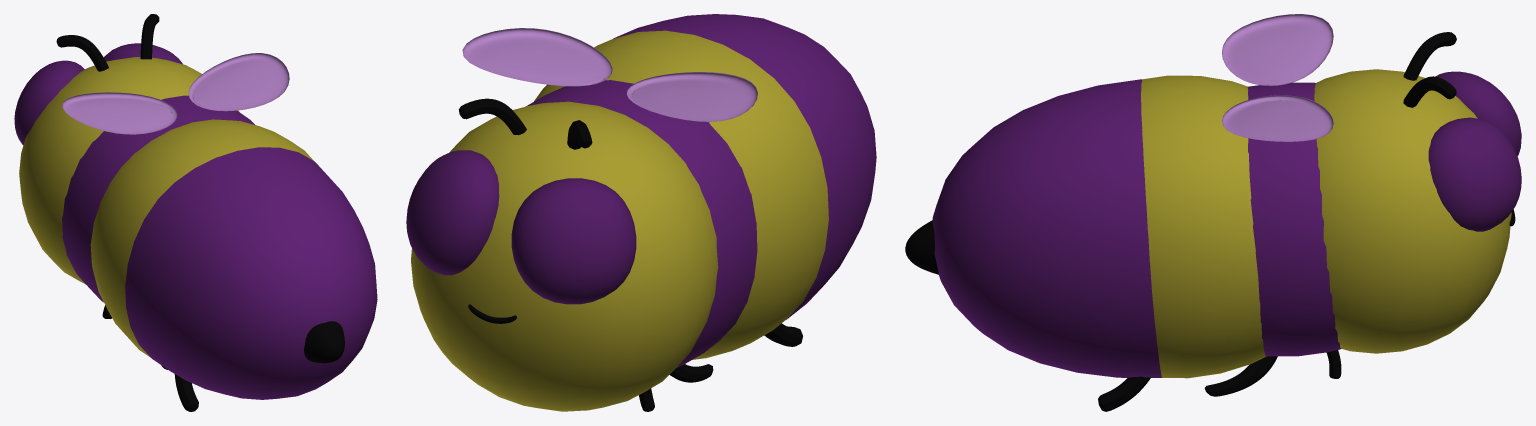
File: bee.glb
3 views of the same model, side by side, from view 1: azimuth 30°, elevation 25°; view 2: azimuth 150°, elevation 25°; view 3: azimuth 270°, elevation 25° (orthographic). The views are drawn at different scales.
Visible parts, largest first — view 1: Cube_004.001, Cube_003.001, Cube_002.001, Cube_008, Cube_001.001, Cube, Cube_009, B__zierCurve.001, B__zierCurve_003; view 2: Cube_002.001, Cube_003.001, Cube, Cube_004.001, Cube_001.001, Cube_008, B__zierCurve.001, B__zierCurve_002, B__zierCurve_003; view 3: Cube_004.001, Cube_002.001, Cube_003.001, Cube_001.001, Cube, Cube_008, B__zierCurve.001, Cube_009, B__zierCurve_002, B__zierCurve_003.
Boxes of the visible parts, x1=… form: Cube_004.001: x1=125, y1=147, x2=377, y2=399; Cube_003.001: x1=90, y1=119, x2=313, y2=357; Cube_002.001: x1=19, y1=57, x2=239, y2=284; Cube_008: x1=62, y1=53, x2=289, y2=134; Cube_001.001: x1=62, y1=95, x2=254, y2=302; Cube: x1=14, y1=43, x2=182, y2=145; Cube_009: x1=304, y1=321, x2=344, y2=363; B__zierCurve.001: x1=56, y1=14, x2=159, y2=71; B__zierCurve_003: x1=174, y1=374, x2=198, y2=411; Cube_002.001: x1=411, y1=101, x2=718, y2=411; Cube_003.001: x1=534, y1=30, x2=828, y2=359; Cube: x1=406, y1=150, x2=636, y2=304; Cube_004.001: x1=613, y1=14, x2=876, y2=319; Cube_001.001: x1=526, y1=80, x2=757, y2=367; Cube_008: x1=462, y1=28, x2=757, y2=121; B__zierCurve.001: x1=458, y1=98, x2=592, y2=149; B__zierCurve_002: x1=669, y1=364, x2=713, y2=382; B__zierCurve_003: x1=764, y1=323, x2=802, y2=346; Cube_004.001: x1=932, y1=79, x2=1161, y2=377; Cube_002.001: x1=1314, y1=69, x2=1511, y2=353; Cube_003.001: x1=1141, y1=75, x2=1266, y2=378; Cube_001.001: x1=1247, y1=82, x2=1341, y2=356; Cube: x1=1428, y1=71, x2=1521, y2=231; Cube_008: x1=1222, y1=14, x2=1333, y2=141; B__zierCurve.001: x1=1403, y1=32, x2=1456, y2=107; Cube_009: x1=905, y1=220, x2=938, y2=274; B__zierCurve_002: x1=1204, y1=356, x2=1277, y2=396; B__zierCurve_003: x1=1098, y1=376, x2=1150, y2=411.
Size of the model in its own units: 1.93 by 2.26 by 3.97.
